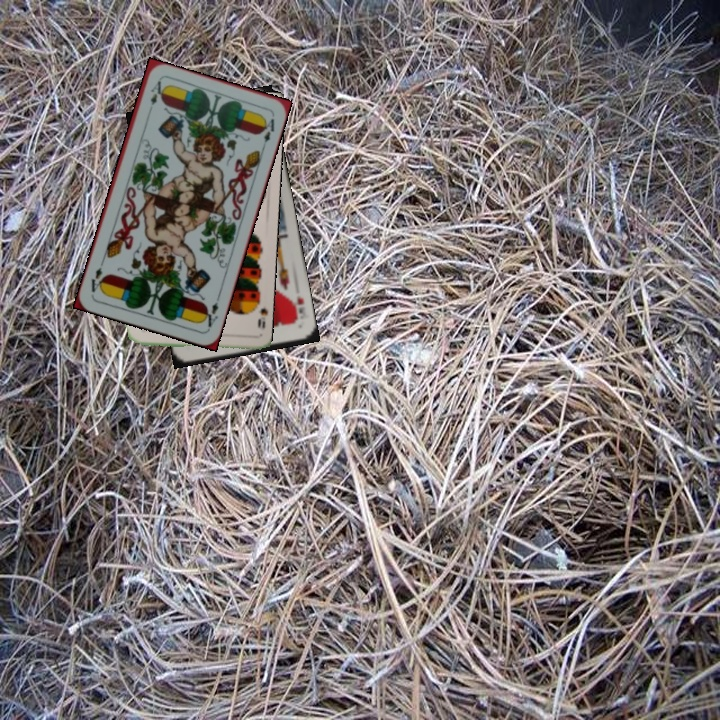EA: (199, 292, 222, 331), (144, 77, 164, 116)
HK: (287, 291, 307, 326)
S9: (249, 295, 263, 330)
